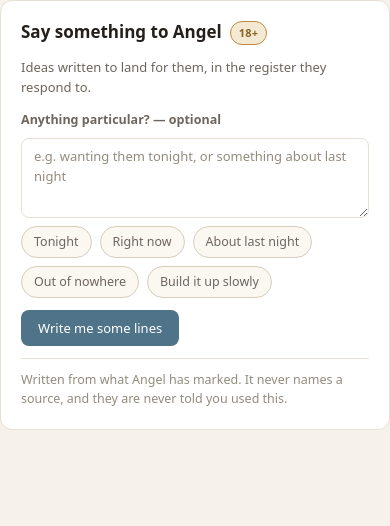
SayLines (75) › "everything was filtered" is its own sentence, and never blames her data (§7.3)
Click the button "Write me some lines".
click(100, 328)  # box [21,310,179,346]
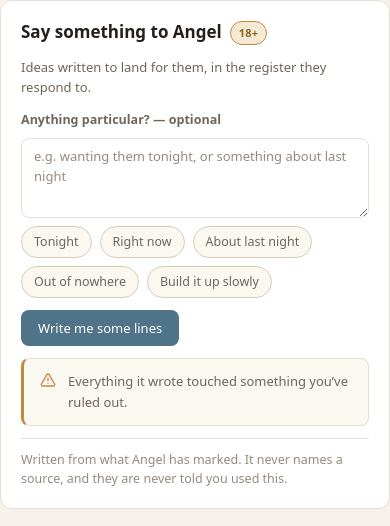
expect the text "Everything it wrote touched something you’ve ruled out." is shown: met, box [68,371,352,413]
